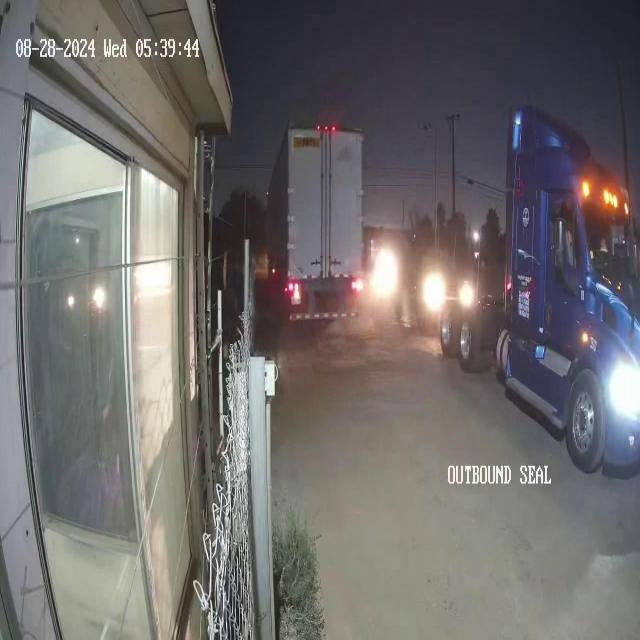TRUCK_IN: (437, 102, 640, 477)
TRUCK_OUT: (262, 118, 366, 326)
